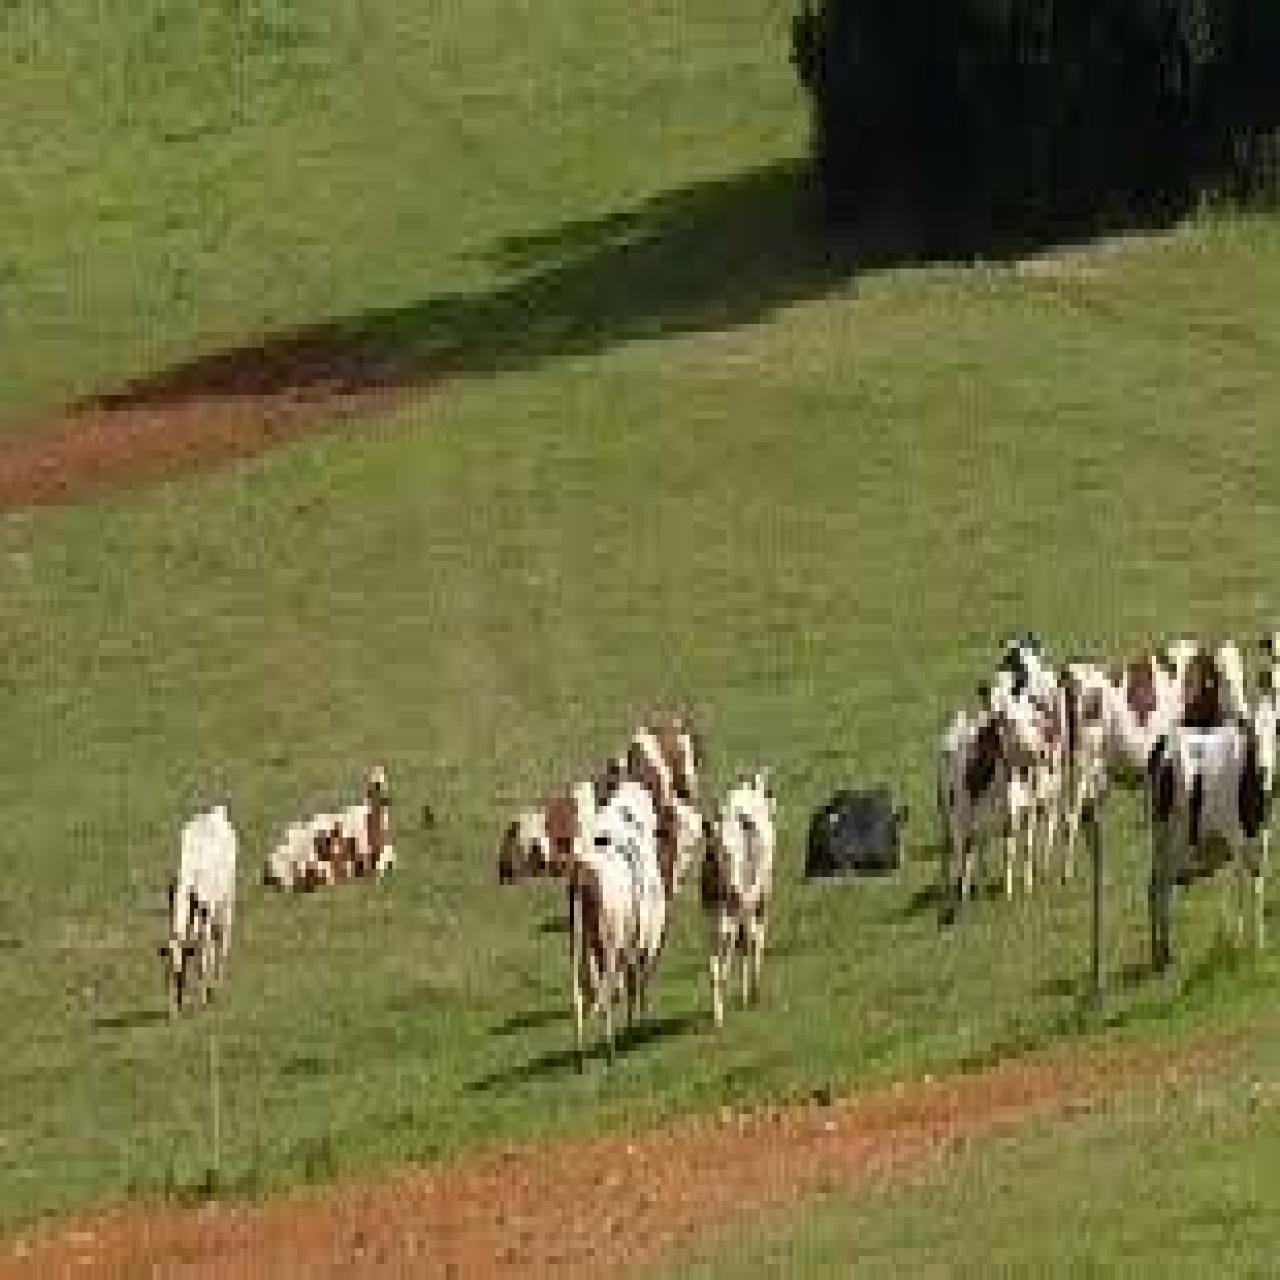cow: (1065, 644, 1247, 881), (1148, 703, 1280, 972), (568, 782, 670, 1075), (946, 700, 1044, 905), (981, 632, 1063, 869), (702, 775, 776, 1020), (157, 798, 236, 1027), (805, 778, 913, 880), (497, 775, 592, 885), (331, 762, 401, 888), (610, 715, 712, 802), (264, 806, 347, 901), (652, 790, 702, 900)
